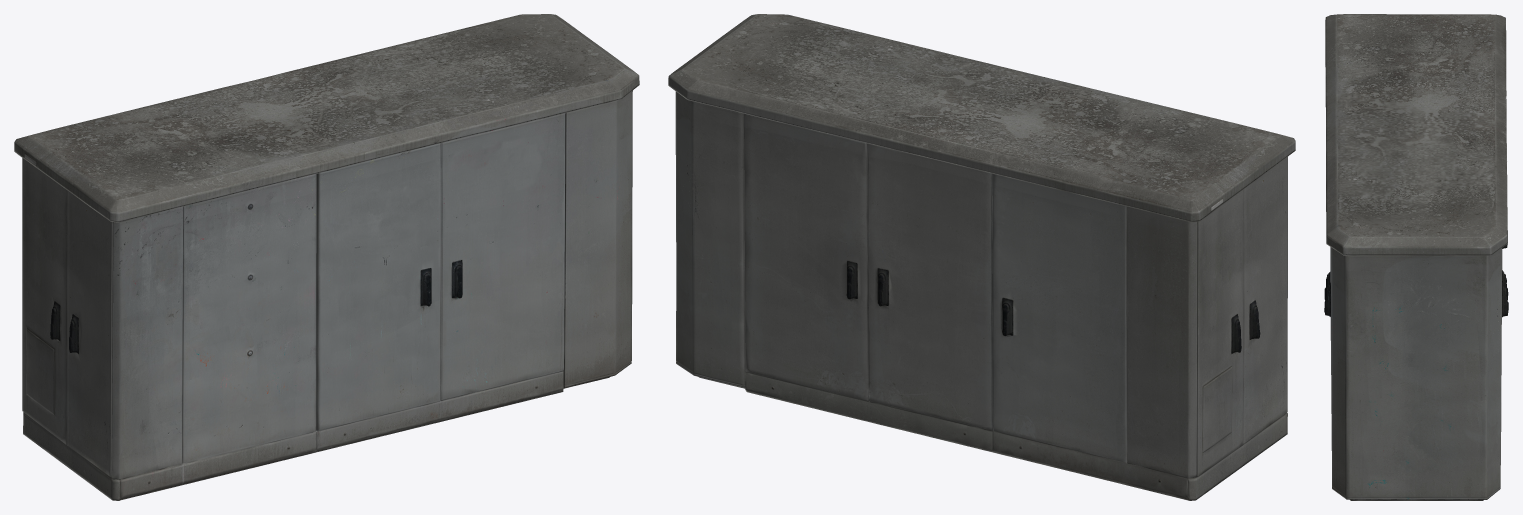
Rendered from electric_box_33.glb.
3 views of the same model, side by side, from view 1: azimuth 30°, elevation 25°; view 2: azimuth 150°, elevation 25°; view 3: azimuth 270°, elevation 25° (orthographic). The views are drawn at different scales.
Parts seen in each view (by area): view 1: Object_2; view 2: Object_2; view 3: Object_2.
Part boxes in pixels (x1,y1,x2,y2): Object_2: (14, 14, 639, 500); Object_2: (668, 14, 1295, 500); Object_2: (1324, 14, 1508, 500).
Bounding box in the file's own units: 2.62 × 1.39 × 0.8733.
1 material, 1 textured.
